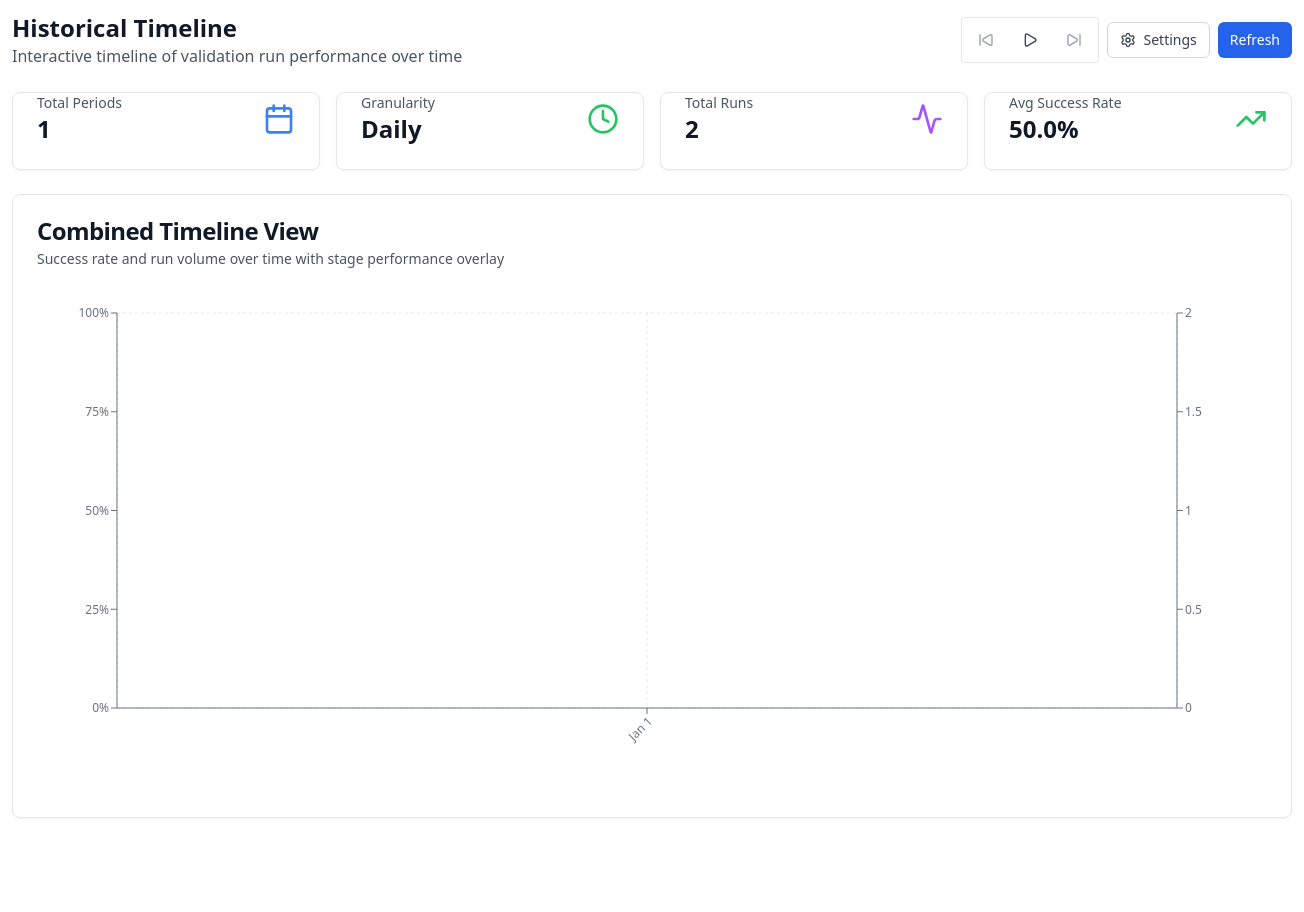
Scenario: HistoricalTimeline › handles chart type changes
This screenshot has width=1304, height=912.
Check: the heading "Historical Timeline" is shown, box [12,11,237,44]
// Open settings
Step 1. Click the button "Settings" → (1158, 40), box [1106,22,1210,58]
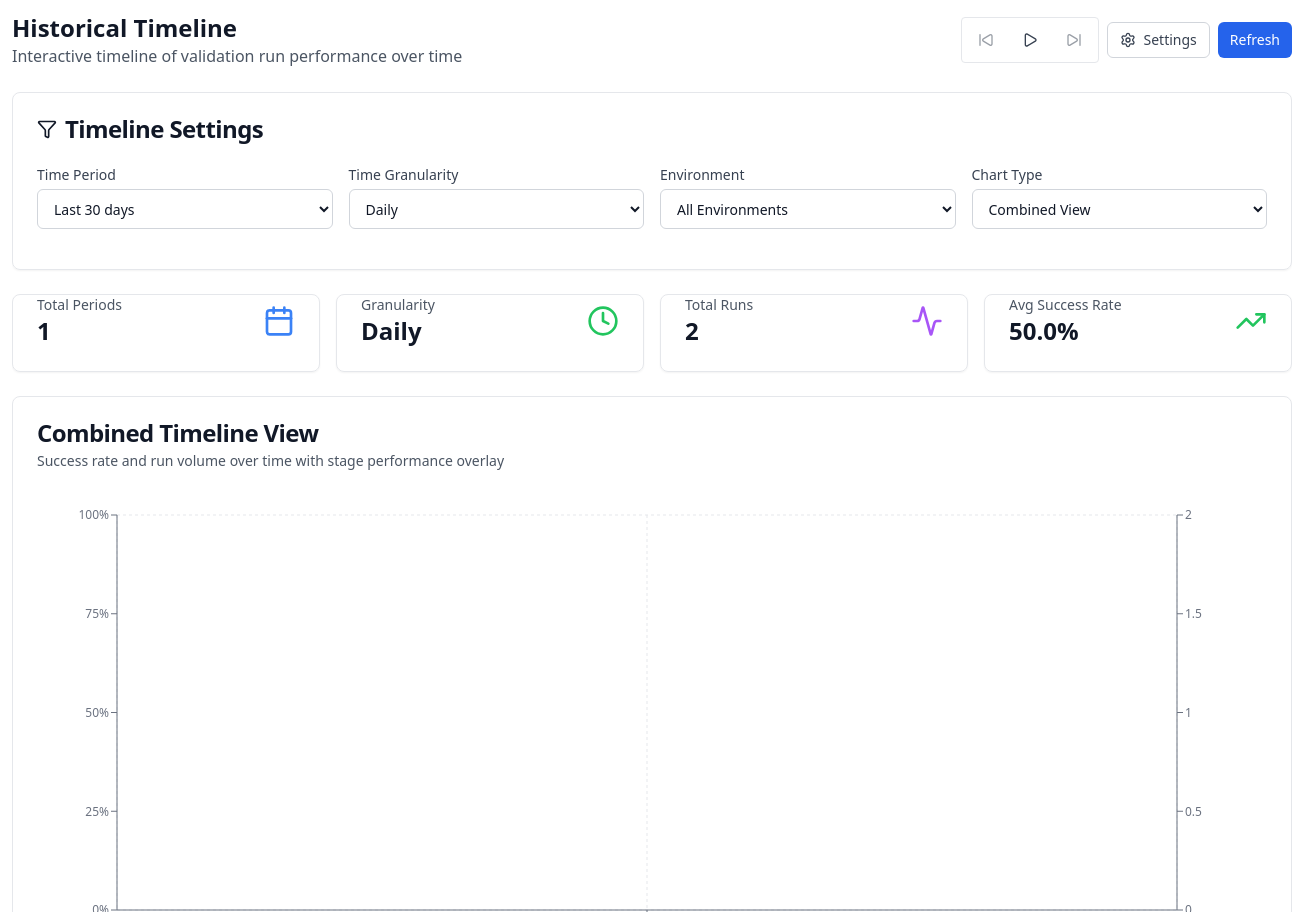
Check: the heading "Timeline Settings" is shown, box [37,112,263,145]
// Change chart type - fourth select in the settings panel
Step 2. Select "Success Rate" in the dropdown below "Chart Type" → (1119, 209), box [972,189,1267,229]
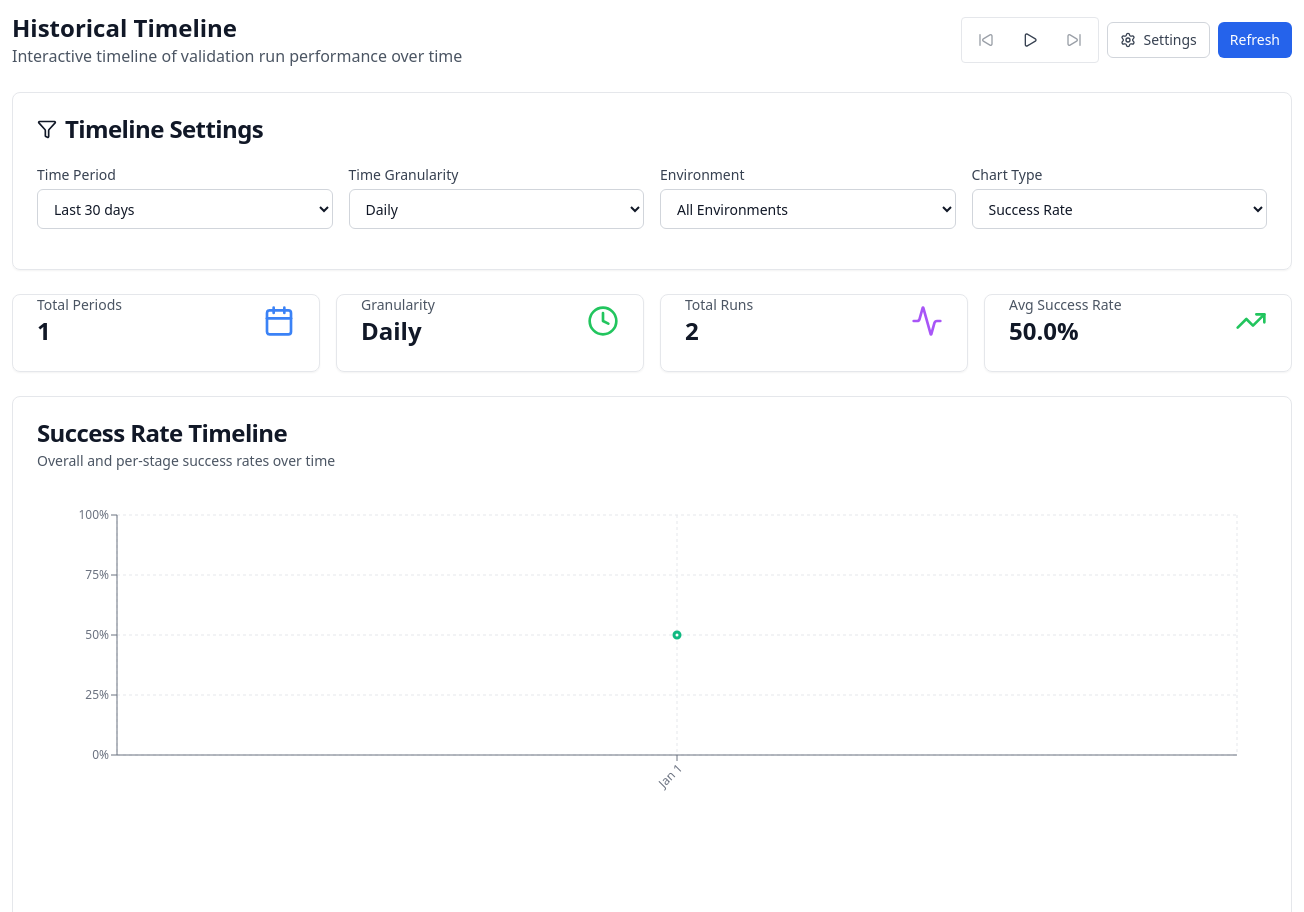
Check: the heading "Success Rate Timeline" is shown, box [37,416,287,449]
